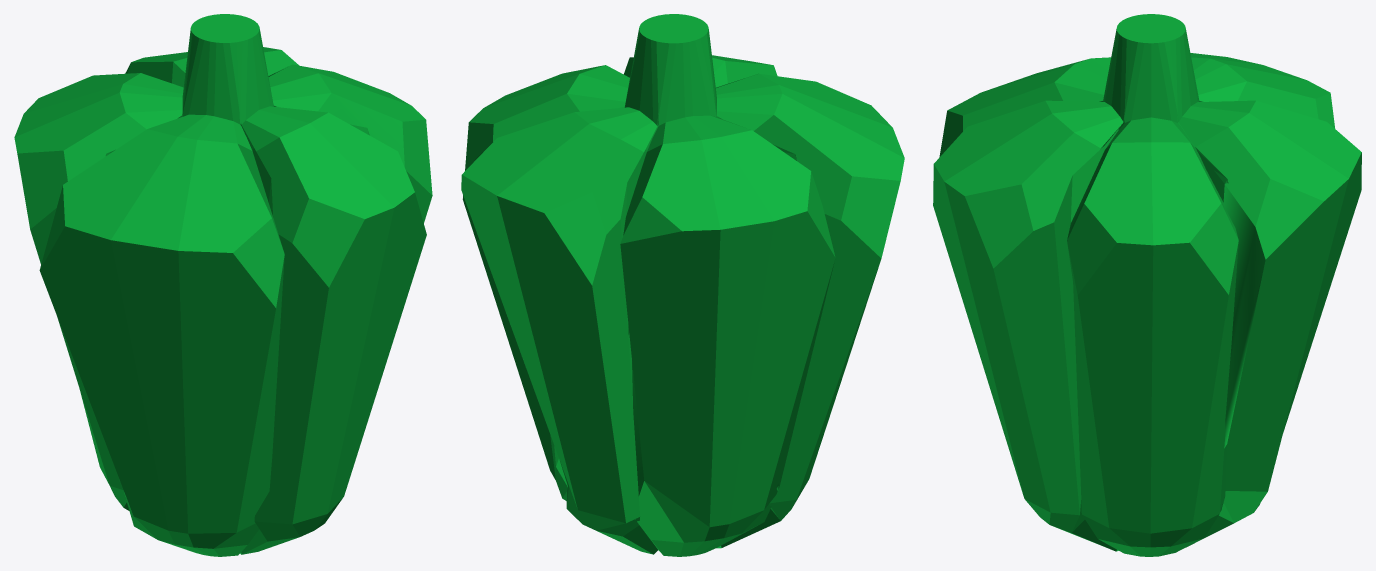
File: Green pepper.fbx
3 views of the same model, side by side, from view 1: azimuth 30°, elevation 25°; view 2: azimuth 150°, elevation 25°; view 3: azimuth 270°, elevation 25° (orthographic).
Visible parts, largest first — view 1: Green pepper; view 2: Green pepper; view 3: Green pepper.
Boxes of the visible parts, x1=… form: Green pepper: x1=14, y1=14, x2=432, y2=556; Green pepper: x1=461, y1=14, x2=904, y2=556; Green pepper: x1=933, y1=14, x2=1361, y2=556.
Size of the model in its own units: 40.71 by 51.38 by 39.24.
